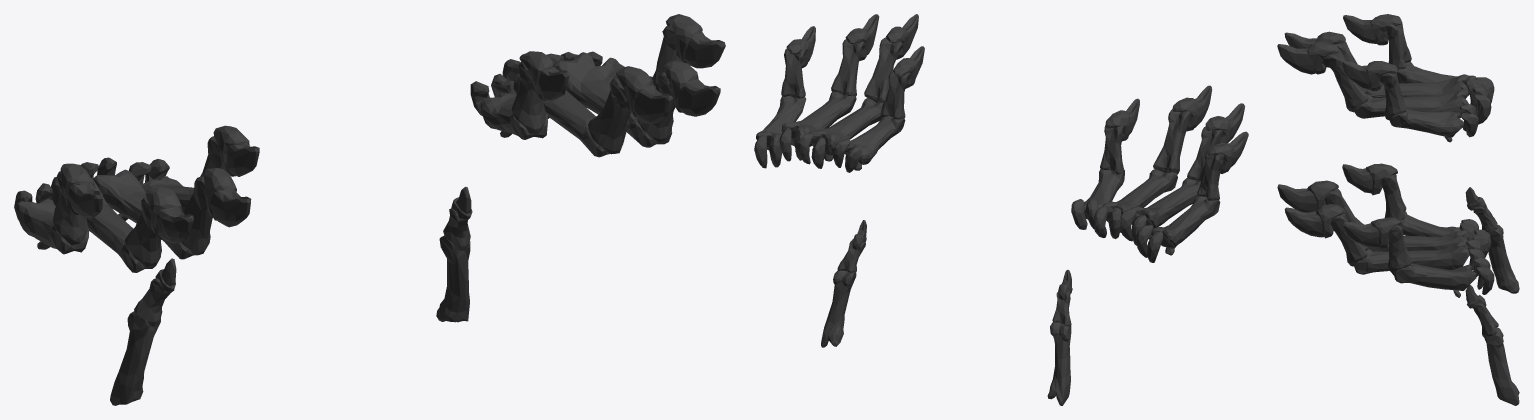
File: b_FL_digits.glb
3 renders of one model, left to right at view 1: azimuth 30°, elevation 25°; view 2: azimuth 150°, elevation 25°; view 3: azimuth 270°, elevation 25°, orthographic. The views are drawn at different scales.
Visible parts, largest first — view 1: b_FL_digits; view 2: b_FL_digits; view 3: b_FL_digits.
Part boxes in pixels (left/top/right/bottom): b_FL_digits: left=14, top=14, right=725, bottom=405; b_FL_digits: left=754, top=14, right=1248, bottom=405; b_FL_digits: left=1277, top=14, right=1519, bottom=405.
Bounding box in the file's own units: 0.0468 × 0.0243 × 0.0226.
1 material, 1 textured.
